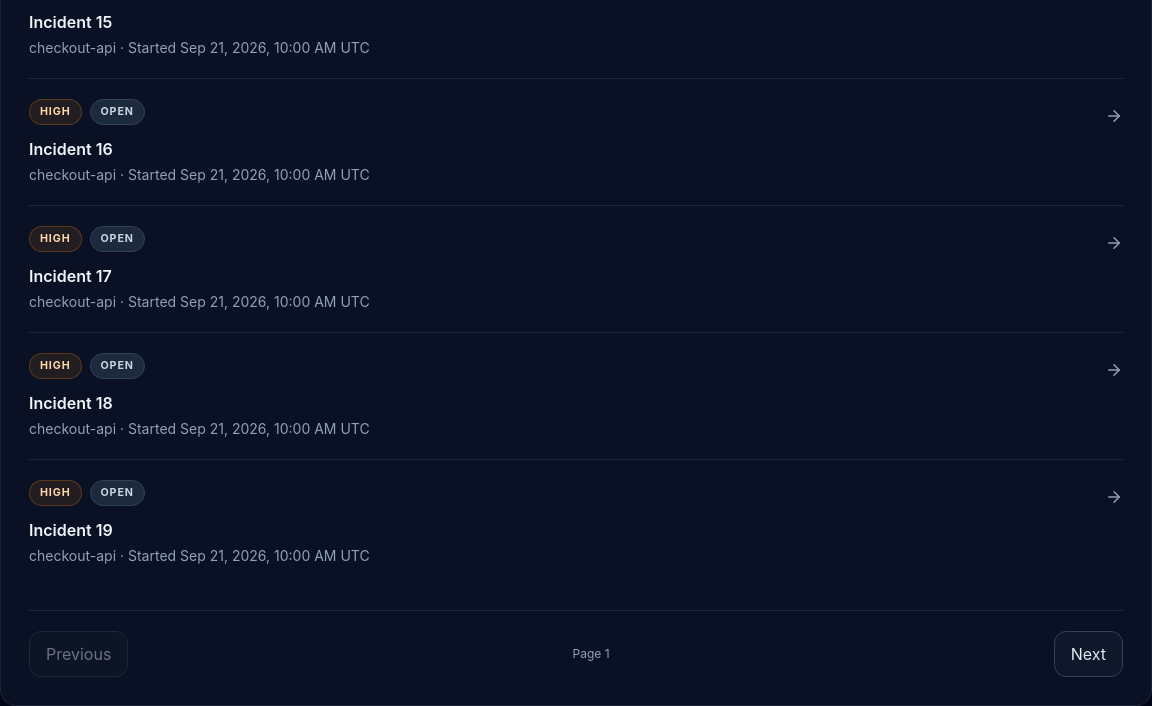
Test: incident list › requests the next offset only when a full page is returned
(page scrolled)
Click the button "Next": (1088, 654) [1054,631,1123,677]
(page scrolled)
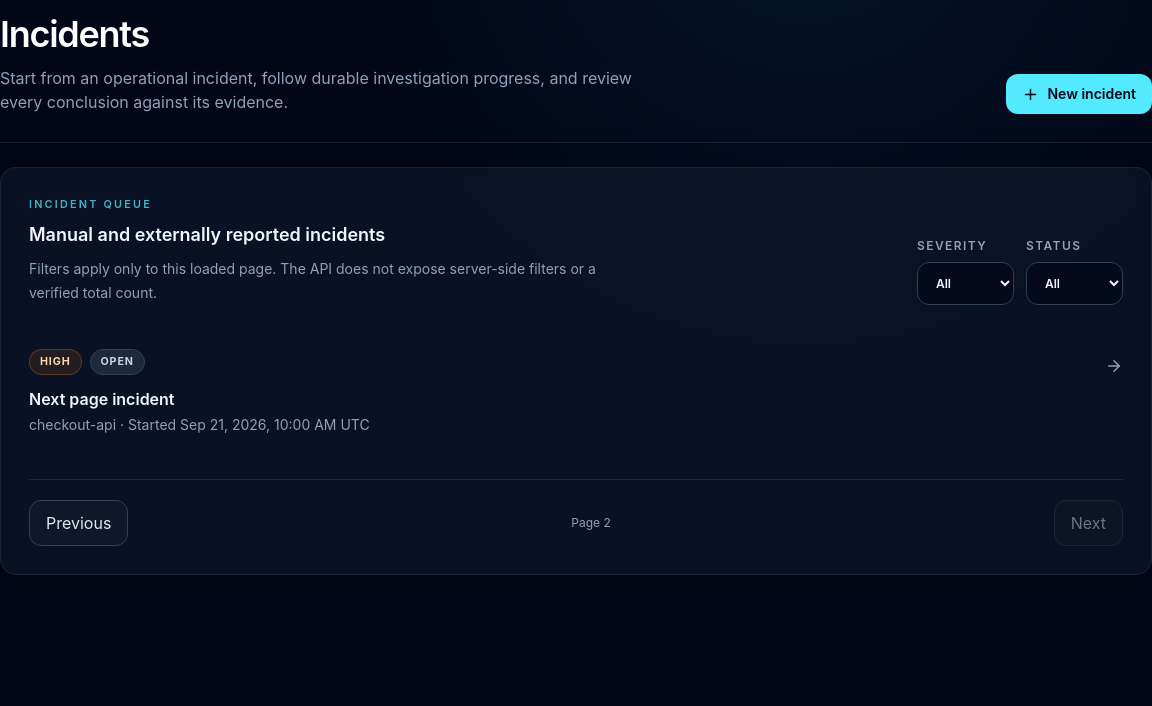
Expected: the heading "Next page incident" is shown, [29,389,174,409]
